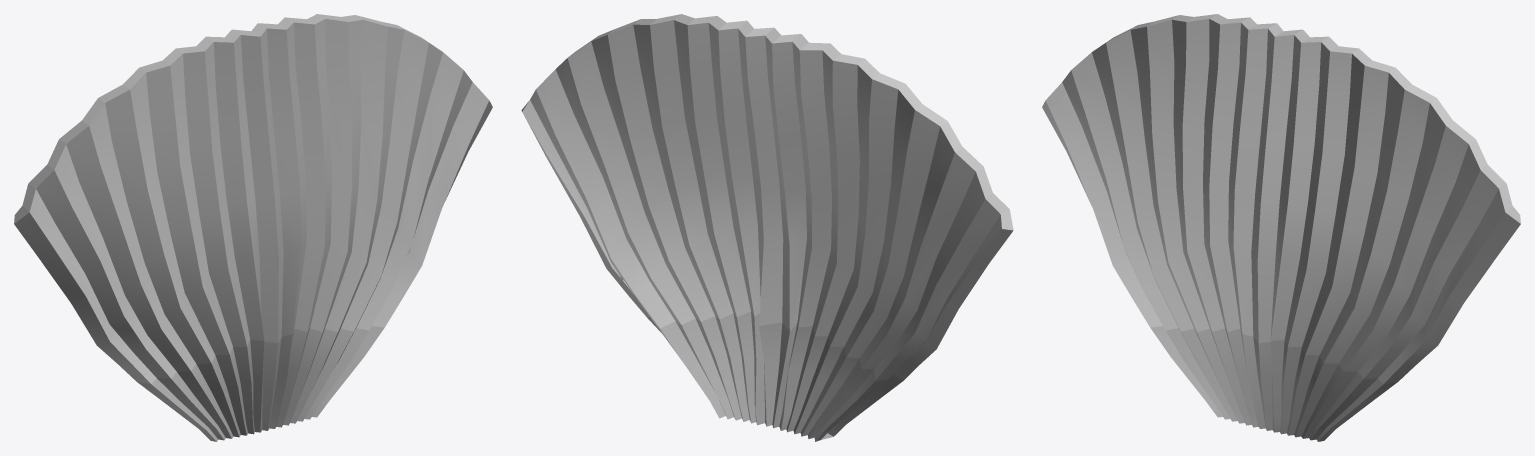
Rendered from geo_shell.fbx.
3 views of the same model, side by side, from view 1: azimuth 30°, elevation 25°; view 2: azimuth 150°, elevation 25°; view 3: azimuth 330°, elevation 25° (orthographic). The views are drawn at different scales.
Parts seen in each view (by area): view 1: geo_shell; view 2: geo_shell; view 3: geo_shell.
Boxes of the visible parts, box(x1,y1,x2,y2) form: geo_shell: box(14, 14, 492, 441); geo_shell: box(521, 14, 1013, 441); geo_shell: box(1042, 14, 1520, 441).
Bounding box in the file's own units: 258 × 201 × 31.43.
Materials: 1 (1 with a texture image).
